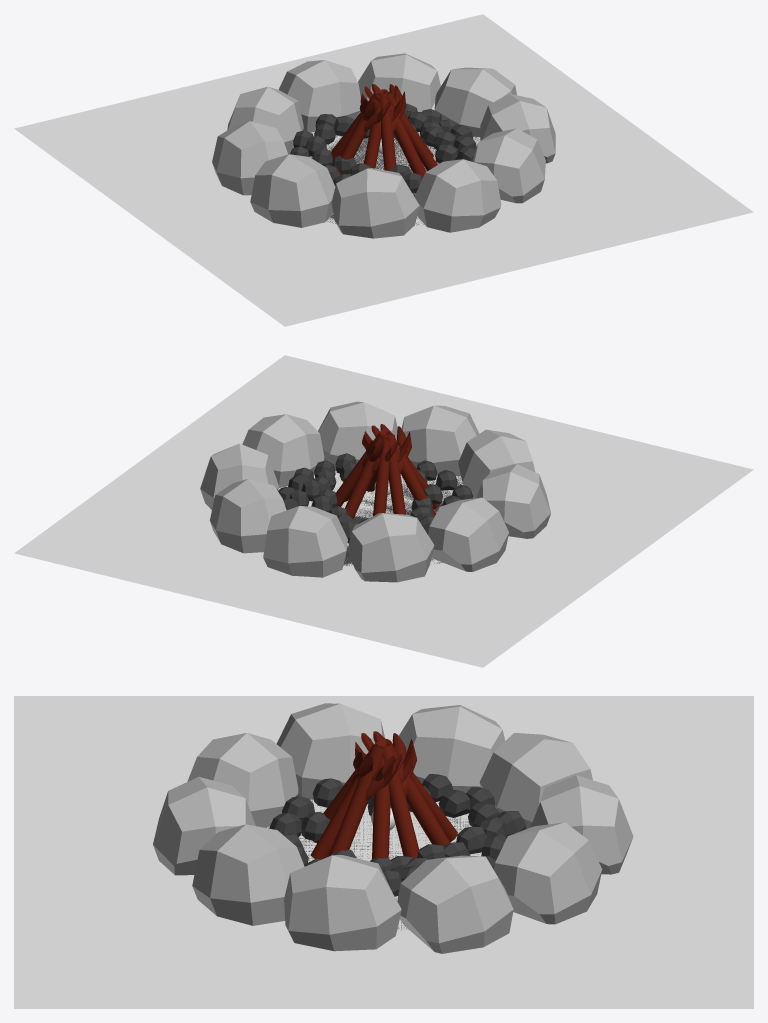
File: FIRE.fbx
3 renders of one model, top to bottom at view 1: azimuth 30°, elevation 25°; view 2: azimuth 150°, elevation 25°; view 3: azimuth 270°, elevation 25°, orthographic. The views are drawn at different scales.
Visible parts, largest first — view 1: Plane, Cube, Cube.008, Cube.009, Cube.005, Cube.001, Cube.007, Cube.003, Cube.004, Cube.002, Cube.006, Cylinder.002 (+6 smaller); view 2: Plane, Cube.005, Cube.006, Cube.007, Cube.004, Cube.008, Cube, Cube.002, Cube.001, Cube.009, Cube.003, Cylinder.008 (+5 smaller); view 3: Plane, Cube.002, Cube.003, Cube.001, Cube.004, Cube.007, Cube.008, Cube, Cube.009, Cube.006, Cube.005, Cylinder.004 (+13 smaller).
Part boxes in pixels (bbox=[...]): Plane: bbox=[14, 14, 753, 326]; Cube: bbox=[414, 159, 501, 232]; Cube.008: bbox=[250, 154, 335, 227]; Cube.009: bbox=[331, 168, 419, 238]; Cube.005: bbox=[278, 60, 360, 132]; Cube.001: bbox=[472, 128, 545, 203]; Cube.007: bbox=[212, 121, 287, 195]; Cube.003: bbox=[434, 67, 516, 137]; Cube.004: bbox=[358, 53, 440, 111]; Cube.002: bbox=[480, 93, 555, 163]; Cube.006: bbox=[227, 86, 303, 154]; Cylinder.002: bbox=[379, 91, 406, 171]; Plane: bbox=[14, 355, 753, 667]; Cube.005: bbox=[263, 506, 347, 577]; Cube.006: bbox=[347, 513, 434, 582]; Cube.007: bbox=[428, 497, 508, 571]; Cube.004: bbox=[209, 479, 286, 553]; Cube.008: bbox=[476, 464, 550, 538]; Cube: bbox=[401, 405, 479, 475]; Cube.002: bbox=[242, 414, 324, 487]; Cube.001: bbox=[318, 401, 397, 470]; Cube.009: bbox=[458, 429, 535, 498]; Cube.003: bbox=[200, 443, 278, 509]; Cylinder.008: bbox=[373, 435, 408, 516]; Plane: bbox=[14, 696, 753, 1008]; Cube.002: bbox=[284, 855, 401, 951]; Cube.003: bbox=[397, 855, 513, 953]; Cube.001: bbox=[192, 824, 304, 925]; Cube.004: bbox=[493, 822, 602, 924]; Cube.007: bbox=[399, 705, 505, 792]; Cube.008: bbox=[276, 703, 384, 799]; Cube: bbox=[153, 776, 255, 875]; Cube.009: bbox=[187, 733, 298, 827]; Cube.006: bbox=[479, 733, 592, 828]; Cube.005: bbox=[530, 775, 633, 874]; Cylinder.004: bbox=[329, 745, 402, 856].
Size of the model in its own units: 400 by 99.36 by 400.
